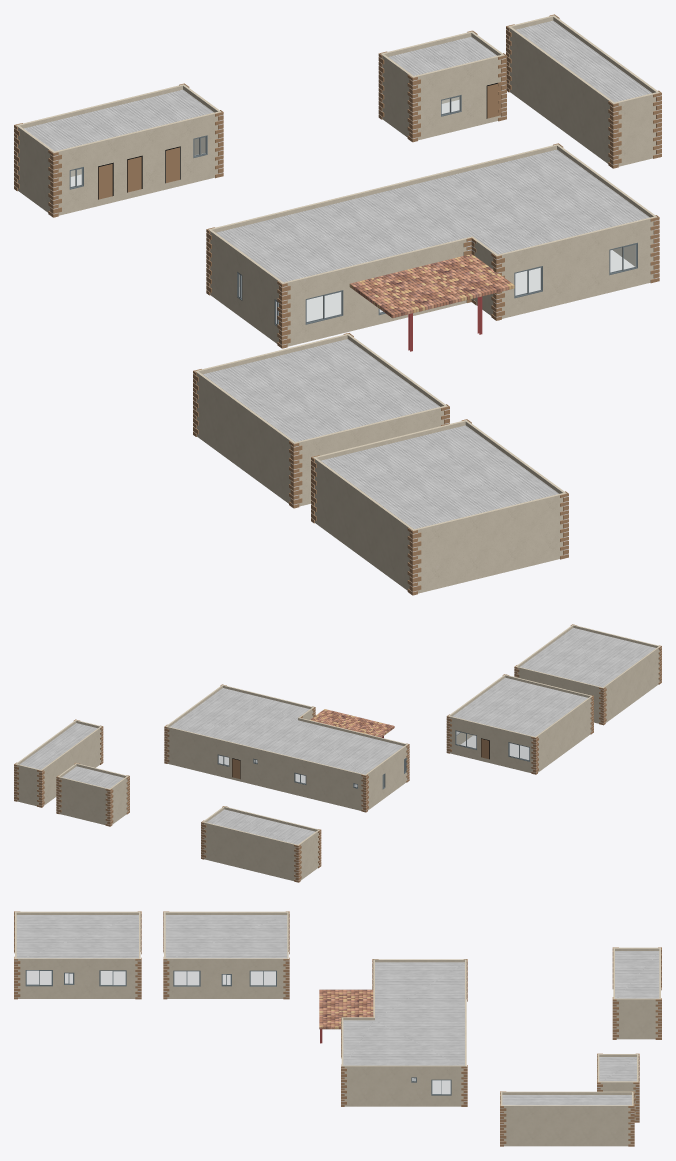
The model's file is Plan(REF)_levels(1)_window(REF)_wall(Masonry - Finish)_quoin(Y)_cornice(N).fbx.
The picture shows the model from 3 angles, top to bottom: view 1: azimuth 30°, elevation 25°; view 2: azimuth 150°, elevation 25°; view 3: azimuth 270°, elevation 25°; orthographic projection. The views are drawn at different scales.
Parts seen in each view (by area): view 1: Masonry - Finish, WAFRA Roof - Corrugated Sheet Matte 23, Color - Sand, Tile - Roofing - Spanish, Glass - Clear, Color - White, Metal - Finish - Aluminum; view 2: Masonry - Finish, WAFRA Roof - Corrugated Sheet Matte 23, Color - Sand, Tile - Roofing - Spanish, Color - White, Glass - Clear, Metal - Finish - Aluminum; view 3: WAFRA Roof - Corrugated Sheet Matte 23, Masonry - Finish, Color - Sand, Tile - Roofing - Spanish, Glass - Clear, Metal - Finish - Aluminum, Color - White.
Boxes of the visible parts, x1=… form: Masonry - Finish: x1=16, y1=15, x2=659, y2=593; WAFRA Roof - Corrugated Sheet Matte 23: x1=23, y1=20, x2=651, y2=529; Color - Sand: x1=14, y1=14, x2=661, y2=595; Tile - Roofing - Spanish: x1=349, y1=254, x2=514, y2=318; Glass - Clear: x1=71, y1=97, x2=635, y2=323; Color - White: x1=14, y1=29, x2=661, y2=591; Metal - Finish - Aluminum: x1=69, y1=95, x2=637, y2=326; Masonry - Finish: x1=15, y1=624, x2=660, y2=880; WAFRA Roof - Corrugated Sheet Matte 23: x1=20, y1=628, x2=655, y2=844; Color - Sand: x1=14, y1=624, x2=661, y2=882; Tile - Roofing - Spanish: x1=310, y1=709, x2=394, y2=737; Color - White: x1=14, y1=648, x2=661, y2=880; Glass - Clear: x1=219, y1=731, x2=528, y2=787; Metal - Finish - Aluminum: x1=217, y1=730, x2=529, y2=789; WAFRA Roof - Corrugated Sheet Matte 23: x1=16, y1=915, x2=659, y2=1105; Masonry - Finish: x1=15, y1=911, x2=660, y2=1146; Color - Sand: x1=14, y1=911, x2=661, y2=1146; Tile - Roofing - Spanish: x1=319, y1=989, x2=373, y2=1029; Glass - Clear: x1=27, y1=971, x2=450, y2=1093; Metal - Finish - Aluminum: x1=25, y1=970, x2=451, y2=1095; Color - White: x1=14, y1=927, x2=661, y2=1144.
Bounding box in the file's own units: 4163 × 5848 × 400.
13 materials, 5 textured.
